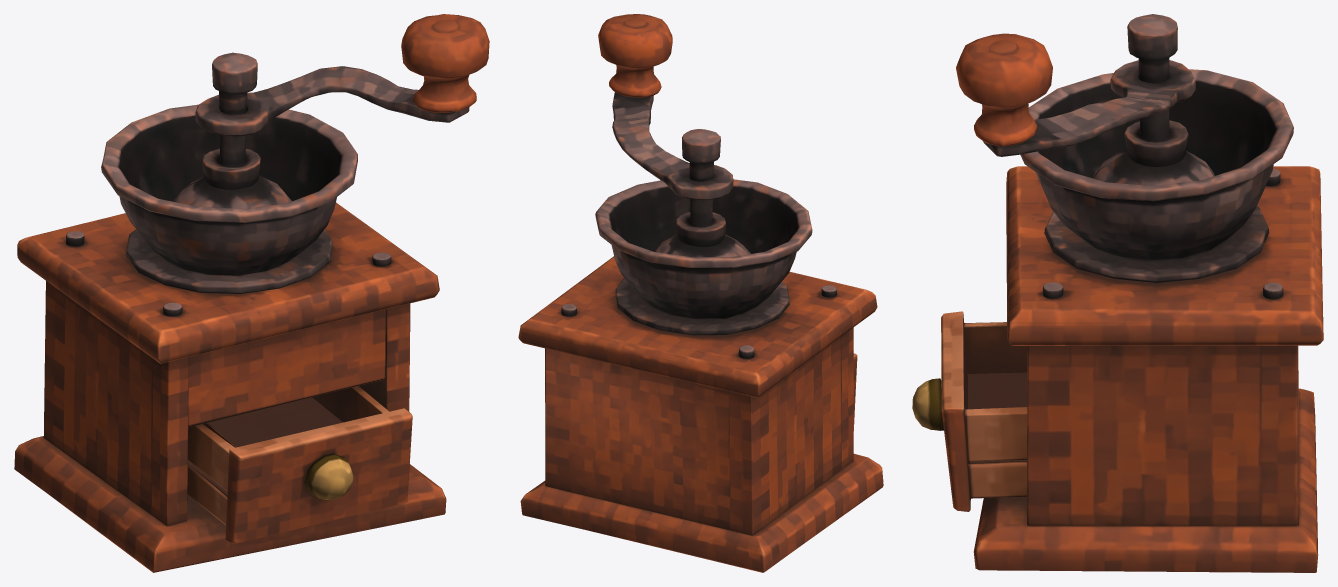
File: coffee_grinder_parts.glb
The picture shows the model from 3 angles, left to right: view 1: azimuth 30°, elevation 25°; view 2: azimuth 150°, elevation 25°; view 3: azimuth 270°, elevation 25°; orthographic projection. The views are drawn at different scales.
Parts seen in each view (by area): view 1: Body, Drawer; view 2: Body; view 3: Body, Drawer.
Boxes of the visible parts, bbox=[...] form: Body: bbox=[14, 14, 489, 572]; Drawer: bbox=[225, 408, 412, 543]; Body: bbox=[518, 14, 883, 572]; Body: bbox=[956, 14, 1323, 572]; Drawer: bbox=[912, 311, 970, 511].
Size of the model in its own units: 0.7272 by 1 by 0.7018.
1 material, 1 textured.
